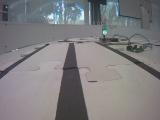tl_green: (102, 17, 108, 36)
